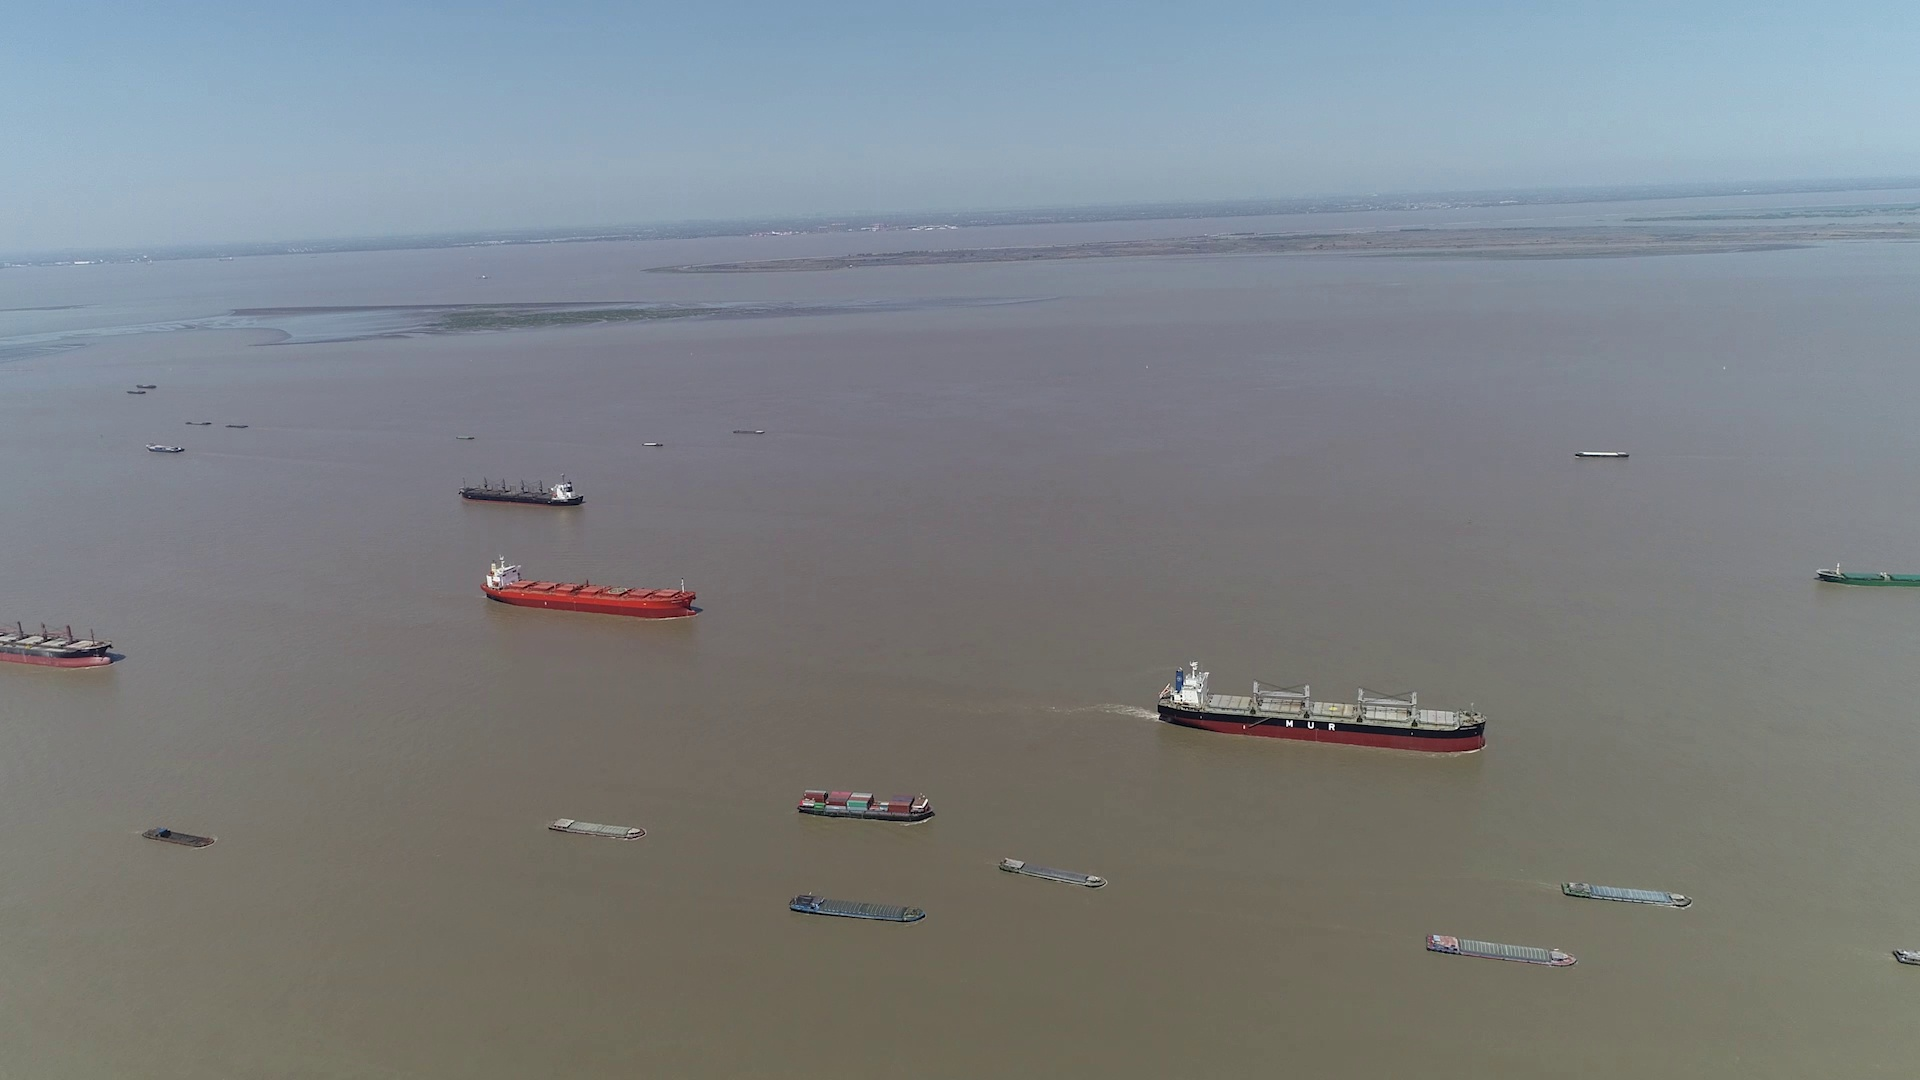ship: (1159, 662, 1489, 753), (483, 555, 699, 618), (0, 605, 120, 669), (1425, 934, 1576, 967), (790, 891, 928, 924), (796, 789, 934, 822), (459, 475, 584, 506), (1561, 880, 1691, 909), (996, 856, 1108, 889), (549, 818, 647, 841), (1815, 564, 1919, 587), (144, 828, 216, 848), (1891, 945, 1920, 971), (1572, 450, 1626, 458), (148, 443, 185, 454)
